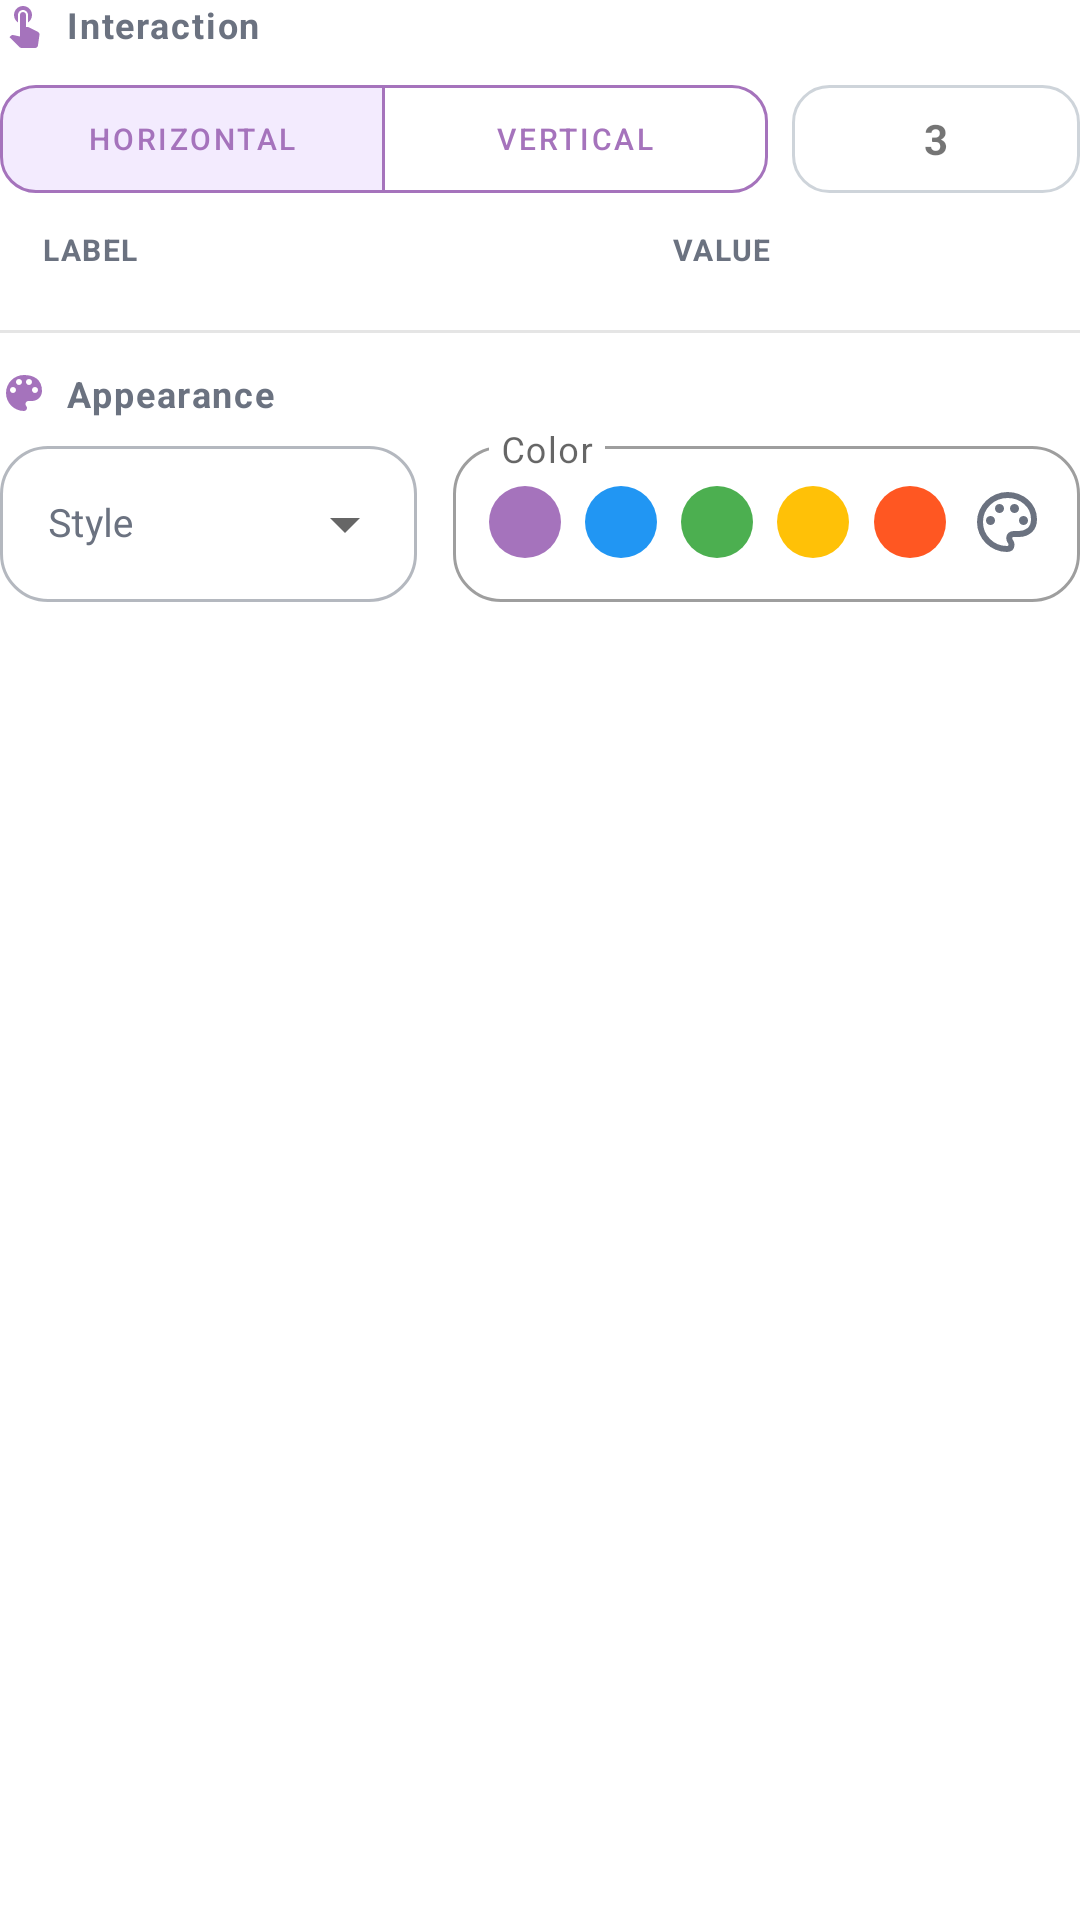

Screen size 1080px×1920px. Icon name, then its center in pixels as (x=x, y=y):
palette: (x=24, y=393)
palette open: (x=1007, y=522)
touch app: (x=24, y=27)
